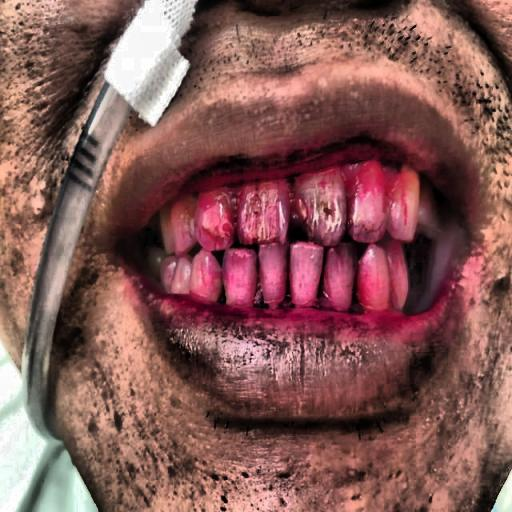Plaque: (172, 180, 433, 306)
